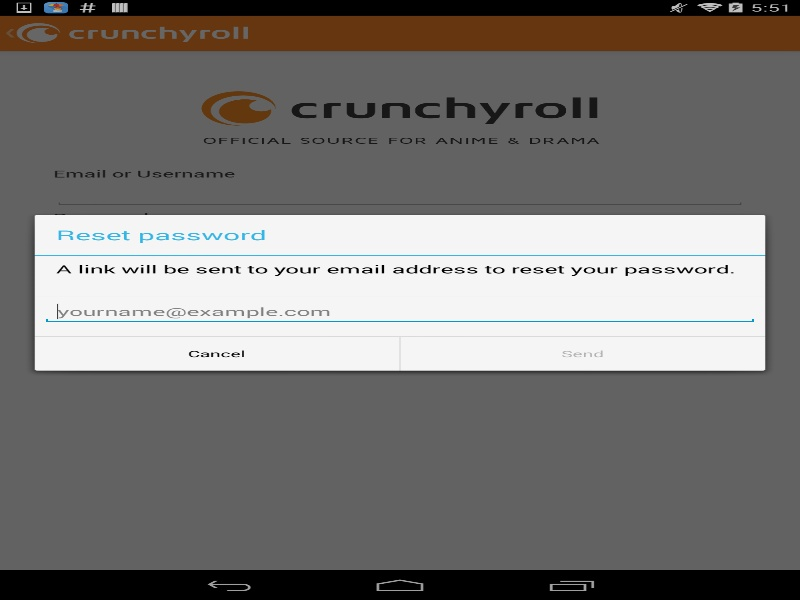Button: (34, 336, 399, 370), (400, 336, 765, 370)
Input: (41, 299, 758, 324)
